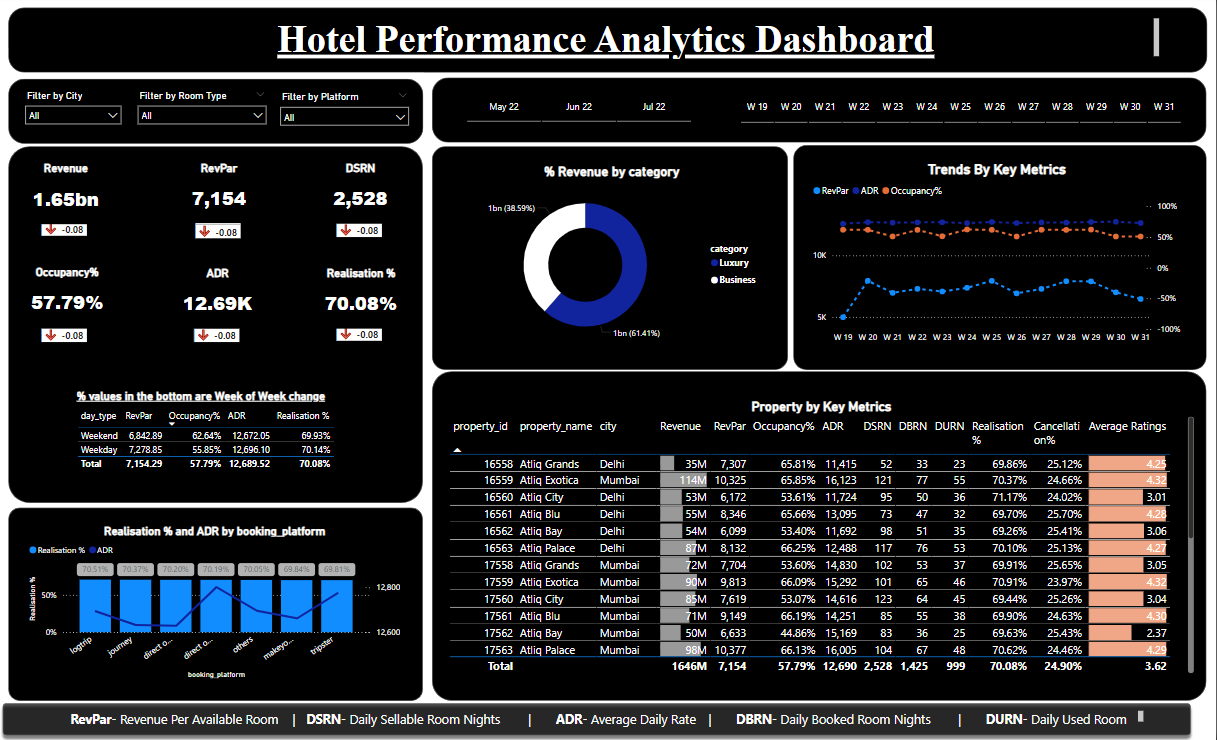

The page's visual inventory and layout, read from the dashboard file:
{"tool":"powerbi","page":{"name":"Page 1","canvas":[1800,1100],"ordinal":0},"visuals":[{"type":"shape","box":[16,124,612,96],"z":0},{"type":"shape","box":[16,754.8,611.5,285.3],"z":1000},{"type":"shape","box":[16,222.9,611.5,526],"z":2000},{"type":"slicer","fields":{"Values":["dim_hotels.city"]},"box":[32,134,162,70],"z":3000},{"type":"shape","box":[642,122,1142,96],"z":4000},{"type":"shape","box":[642,554,1142,486],"z":5000},{"type":"slicer","fields":{"Values":["dim_rooms.room_class"]},"box":[198,134,210,72],"z":6000},{"type":"slicer","fields":{"Values":["dim_date.week no"]},"box":[1071.4,134.2,698,60.7],"z":7000},{"type":"slicer","fields":{"Values":["dim_date.mmm yy"]},"box":[667.6,135.2,380.1,58.8],"z":8000},{"type":"shape","box":[0,1035.7,1768.6,64.3],"z":9000},{"type":"shape","box":[1174.6,221,609.4,331.9],"z":10000},{"type":"lineChart","title":"Trends By Key Metrics","fields":{"Category":["dim_date.mmm yy.Variation.Date Hierarchy.Month","dim_date.week no"],"Y":["key_measures.RevPar","key_measures.ADR"],"Y2":["key_measures.Occupancy%"]},"box":[1198.7,244.3,553.1,277.6],"z":11000},{"type":"tableEx","fields":{"Values":["key_measures.Revenue WoW change%"]},"box":[59.8,302.9,84.7,76.4],"z":12000},{"type":"lineStackedColumnComboChart","fields":{"Category":["fact_bookings.booking_platform"],"Y2":["key_measures.ADR"],"Y":["key_measures.Realisation %"]},"box":[42.1,780,557.2,232.9],"z":13000},{"type":"tableEx","title":"Property by Key Metrics","fields":{"Values":["dim_hotels.property_id","dim_hotels.property_name","dim_hotels.city","key_measures.revenue","key_measures.RevPar","key_measures.Occupancy","key_measures.ADR","key_measures.DSRN","key_measures.DBRN","key_measures.DURN","key_measures.Realisation %","key_measures.Cancellation"]},"box":[662,596,1108,410],"z":14000},{"type":"tableEx","title":"% values in the bottom are Week of Week change","fields":{"Values":["dim_date.day_type","key_measures.RevPar","key_measures.Occupancy%","key_measures.ADR","key_measures.Realisation %"]},"box":[112,580,412,150],"z":15000},{"type":"shape","box":[641.5,222.9,525,330],"z":16000},{"type":"donutChart","title":"% Revenue by category","fields":{"Category":["dim_hotels.category"],"Y":["key_measures.Revenue"]},"box":[677.7,248.5,456.6,276.9],"z":17000},{"type":"tableEx","fields":{"Values":["key_measures.Revenue WoW change%"]},"box":[285.9,305.6,84.7,76.4],"z":18000},{"type":"tableEx","fields":{"Values":["key_measures.Revenue WoW change%"]},"box":[494.5,303.4,84.7,76.4],"z":19000},{"type":"textbox","box":[104,1050,1592,38],"z":20000},{"type":"slicer","fields":{"Values":["fact_bookings.booking_platform"]},"box":[408,136,210,72],"z":21000},{"type":"tableEx","fields":{"Values":["key_measures.Revenue WoW change%"]},"box":[283.5,459.7,84.5,73.8],"z":22000},{"type":"tableEx","fields":{"Values":["key_measures.Revenue WoW change%"]},"box":[58.2,459.7,88.5,73.8],"z":23000},{"type":"tableEx","fields":{"Values":["key_measures.Revenue WoW change%"]},"box":[494.7,457.8,84.5,73.8],"z":24000},{"type":"card","title":"Revenue","fields":{"Values":["key_measures.revenue"]},"box":[22,244.8,158.9,93.2],"z":25000},{"type":"card","title":"RevPar","fields":{"Values":["key_measures.RevPar"]},"box":[249.3,245.7,156.9,91.2],"z":26000},{"type":"card","title":"Occupancy%","fields":{"Values":["key_measures.Occupancy%"]},"box":[23.7,398.8,159.2,93.5],"z":27000},{"type":"card","title":"DSRN","fields":{"Values":["key_measures.DSRN"]},"box":[458,245.4,157.8,91.8],"z":28000},{"type":"card","title":"ADR","fields":{"Values":["key_measures.ADR"]},"box":[247.5,399.6,156.6,91.8],"z":29000},{"type":"card","title":"Realisation %","fields":{"Values":["key_measures.Realisation %"]},"box":[457.9,399.6,159.1,91.8],"z":30000},{"type":"shape","box":[16,18,1768,96],"z":31000},{"type":"textbox","box":[84,30,1634,70],"z":32000}]}

Visuals, with their boxes in screenshot pixels (x1, y1, x2, y2), scaled from the page's 1800x1100 canvas onto the 1217x740 screenshot:
shape: l=11, t=83, r=425, b=148
shape: l=11, t=508, r=424, b=700
shape: l=11, t=150, r=424, b=504
slicer - dim_hotels.city: l=22, t=90, r=131, b=137
shape: l=434, t=82, r=1206, b=147
shape: l=434, t=373, r=1206, b=700
slicer - dim_rooms.room_class: l=134, t=90, r=276, b=139
slicer - dim_date.week no: l=724, t=90, r=1196, b=131
slicer - dim_date.mmm yy: l=451, t=91, r=708, b=131
shape: l=0, t=697, r=1196, b=739
shape: l=794, t=149, r=1206, b=372
"Trends By Key Metrics" lineChart: l=810, t=164, r=1184, b=351
tableEx - key_measures.Revenue WoW change%: l=40, t=204, r=98, b=255
lineStackedColumnComboChart - fact_bookings.booking_platform x key_measures.ADR: l=28, t=525, r=405, b=681
"Property by Key Metrics" tableEx: l=448, t=401, r=1197, b=677
"% values in the bottom are Week of Week change" tableEx: l=76, t=390, r=354, b=491
shape: l=434, t=150, r=789, b=372
"% Revenue by category" donutChart: l=458, t=167, r=767, b=353
tableEx - key_measures.Revenue WoW change%: l=193, t=206, r=251, b=257
tableEx - key_measures.Revenue WoW change%: l=334, t=204, r=392, b=256
textbox: l=70, t=706, r=1147, b=732
slicer - fact_bookings.booking_platform: l=276, t=91, r=418, b=140
tableEx - key_measures.Revenue WoW change%: l=192, t=309, r=249, b=359
tableEx - key_measures.Revenue WoW change%: l=39, t=309, r=99, b=359
tableEx - key_measures.Revenue WoW change%: l=334, t=308, r=392, b=358
"Revenue" card: l=15, t=165, r=122, b=227
"RevPar" card: l=169, t=165, r=275, b=227
"Occupancy%" card: l=16, t=268, r=124, b=331
"DSRN" card: l=310, t=165, r=416, b=227
"ADR" card: l=167, t=269, r=273, b=331
"Realisation %" card: l=310, t=269, r=417, b=331
shape: l=11, t=12, r=1206, b=77
textbox: l=57, t=20, r=1162, b=67
